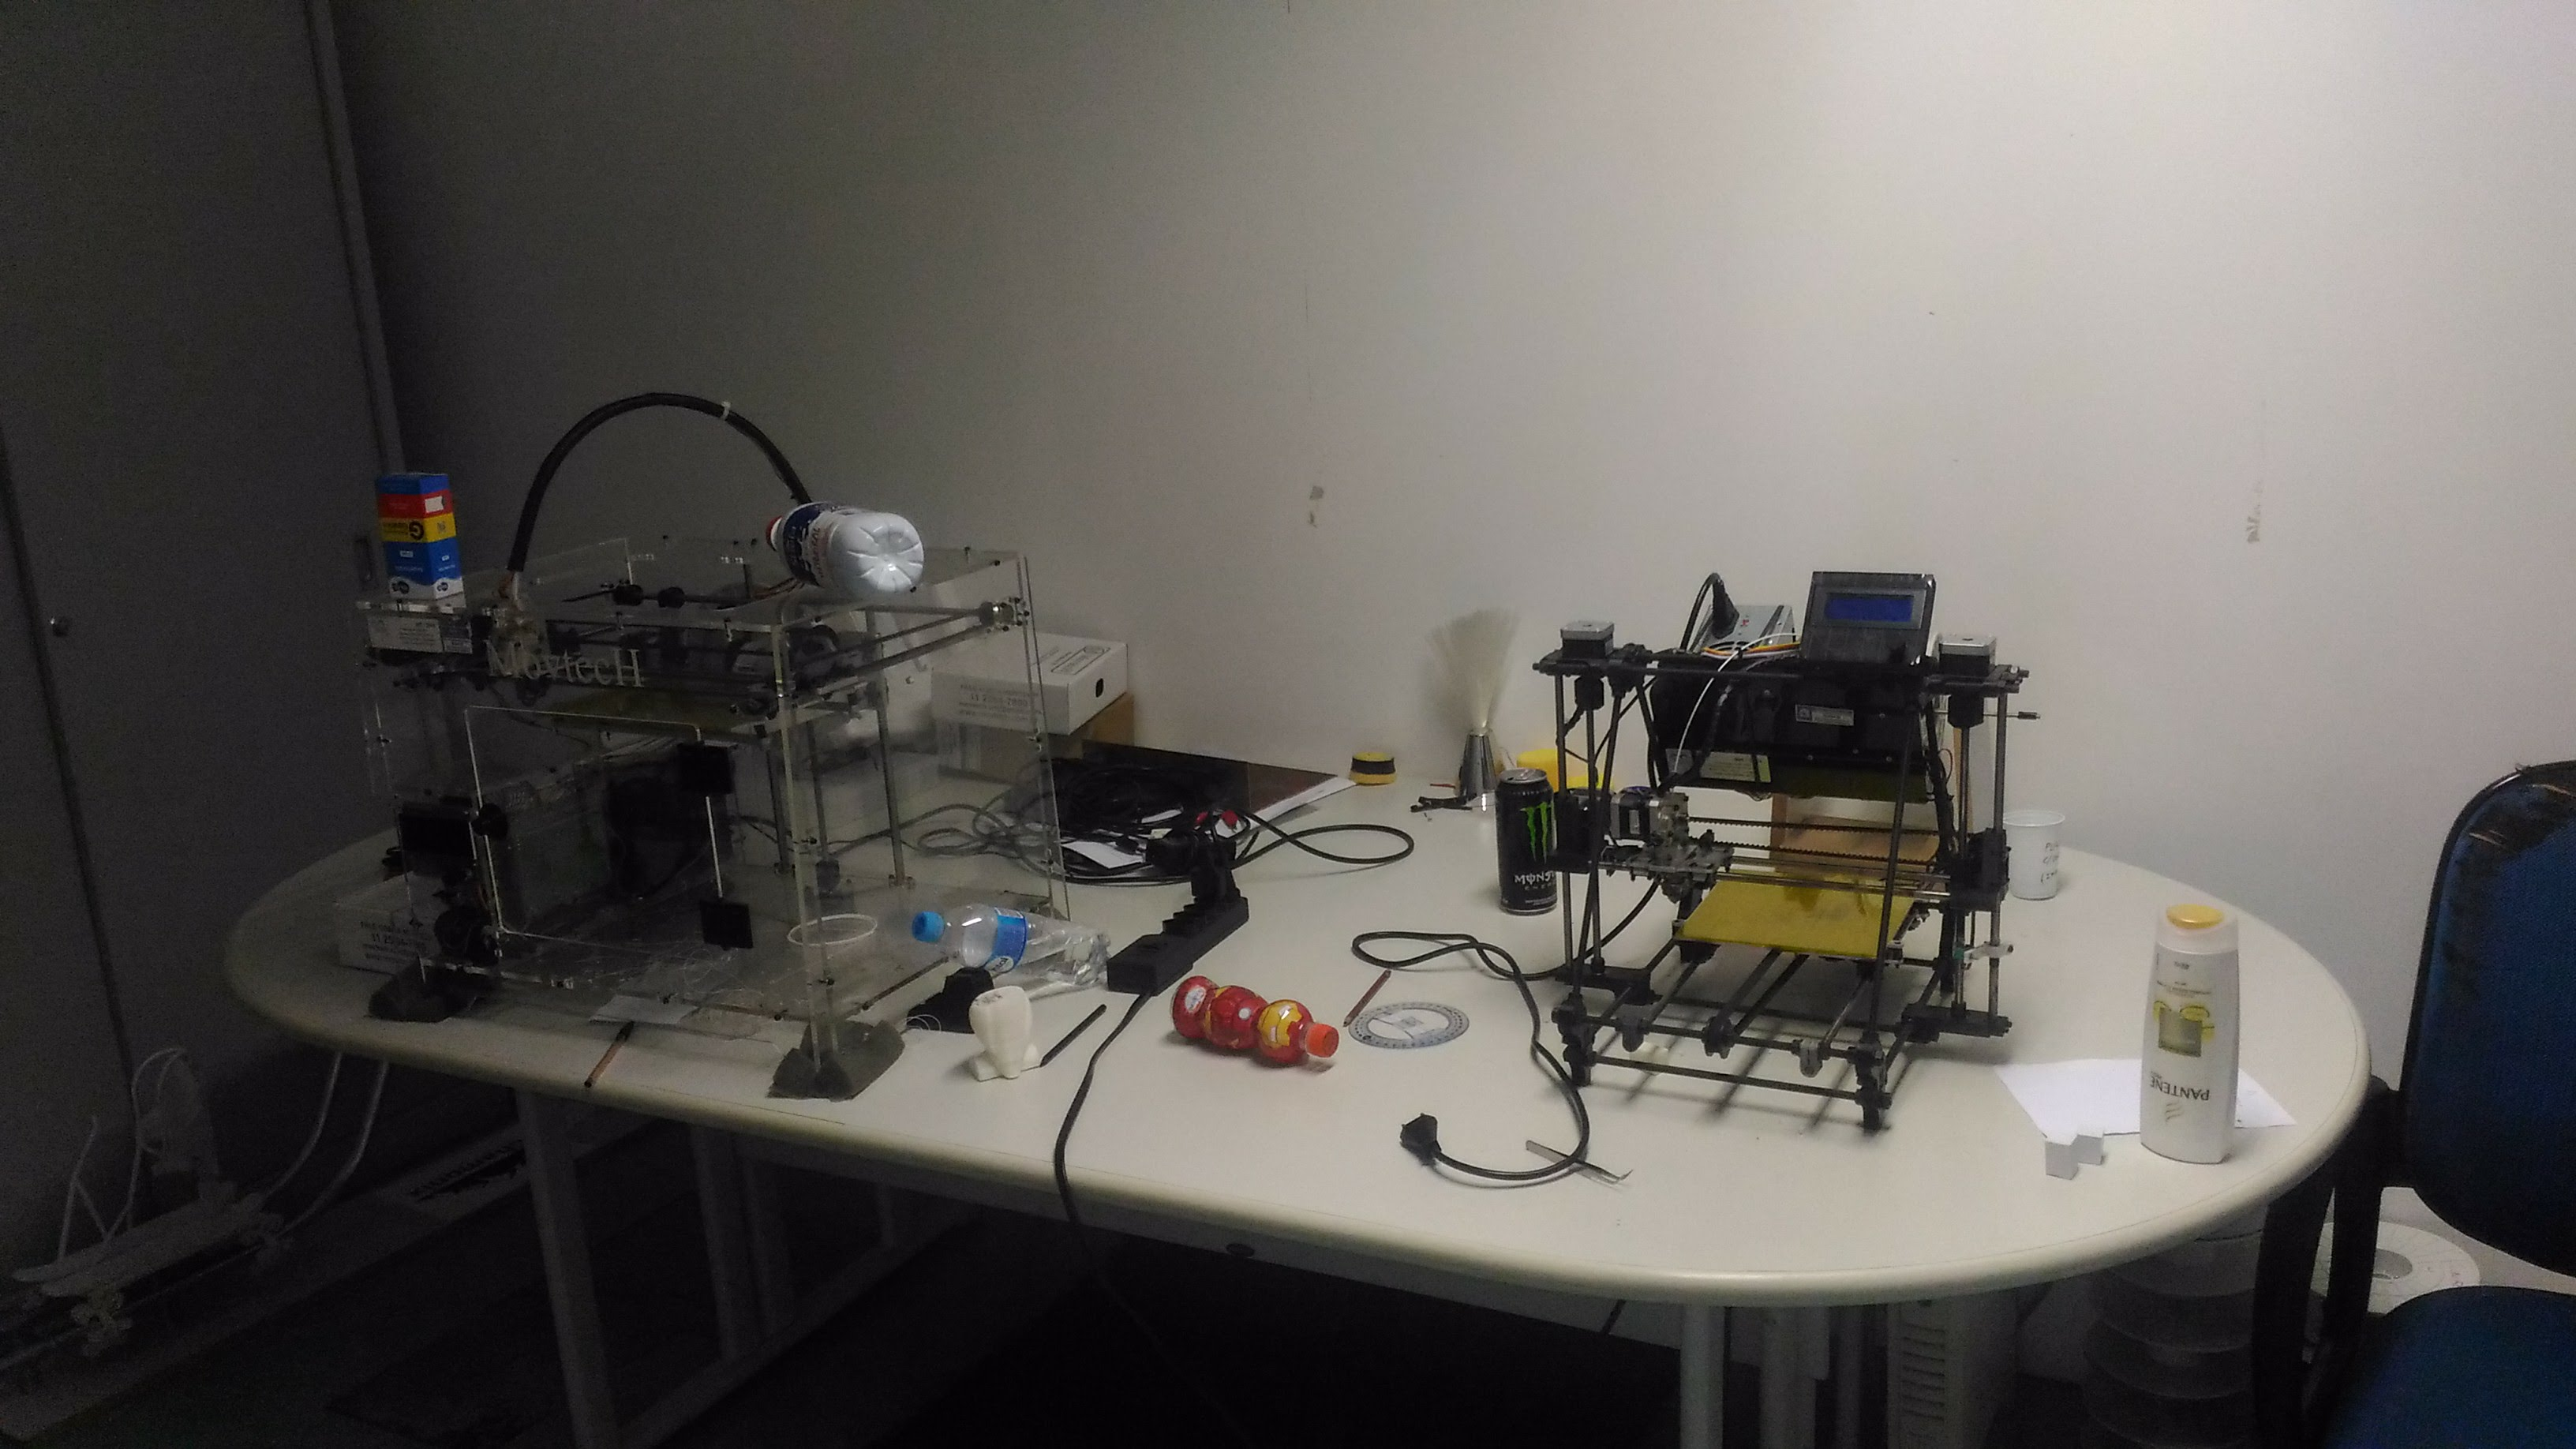iron_man: (1159, 965, 1342, 1069)
medicine: (369, 462, 477, 633)
milk_bottle: (756, 492, 934, 604)
monster: (1487, 758, 1566, 932)
shampoo: (2143, 895, 2256, 1177)
